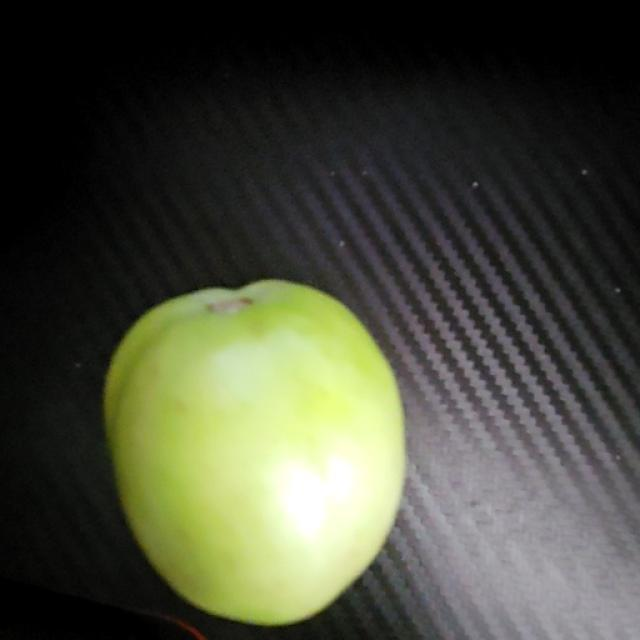Green: (100, 276, 409, 627)
